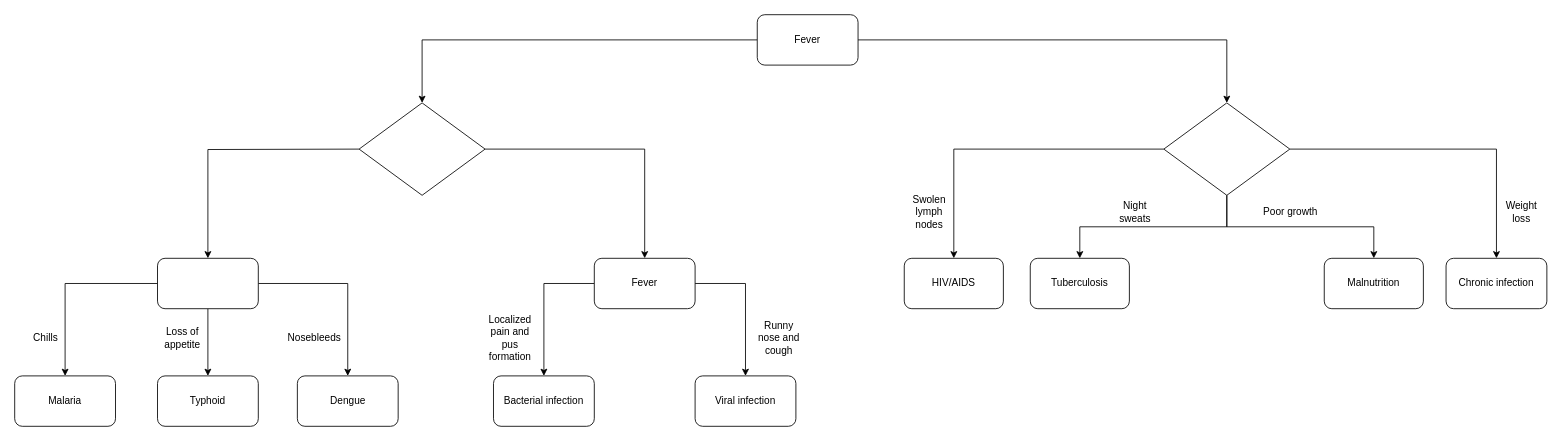
Image size: 1562x441. Some labels were removed from this diagram. The centre of each missing label's shape, as x and y in pixels:
High Fever: point (207, 283)
Less than one week: point (421, 148)
More than 1 week: point (1226, 148)
